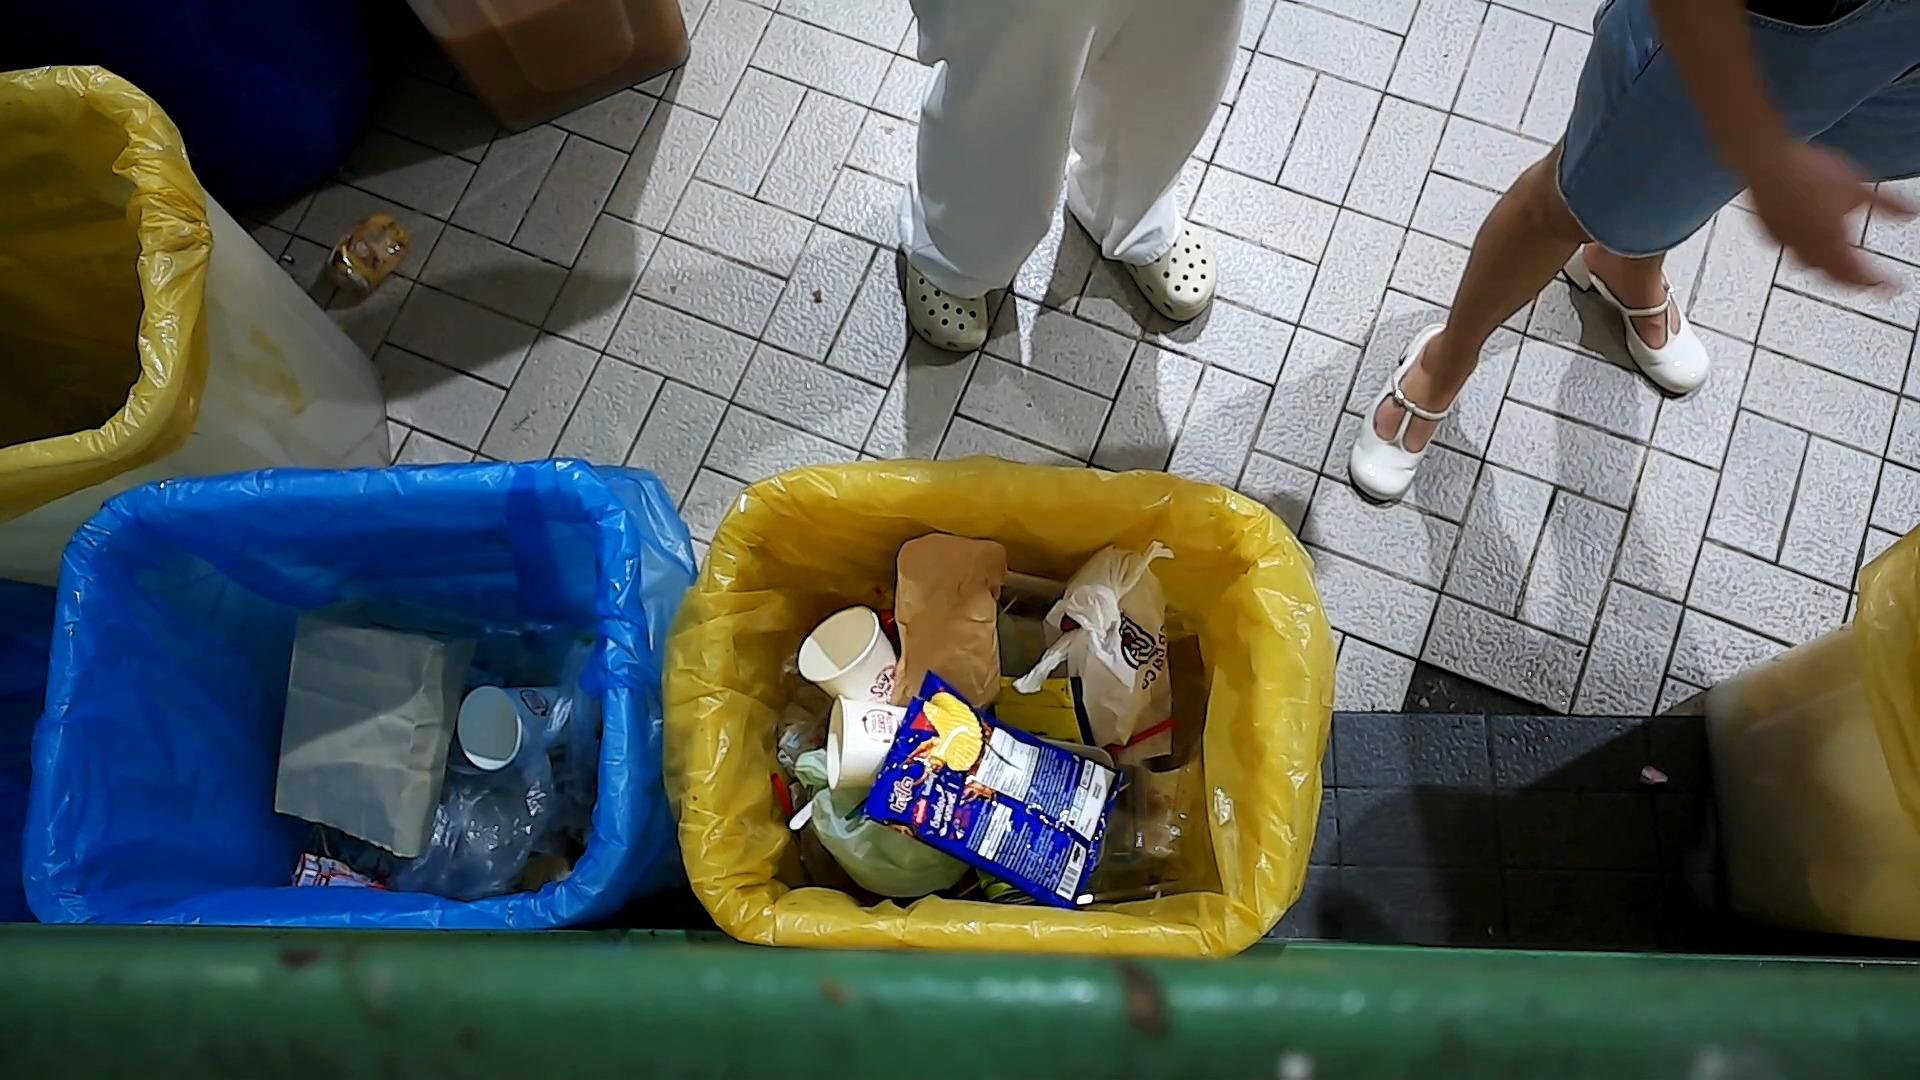filled plastic bag: (1011, 533, 1182, 764), (795, 731, 980, 902)
milk carton: (289, 843, 394, 891)
paper bag: (274, 585, 492, 858), (889, 530, 1011, 716)
plastic bag: (398, 735, 570, 905)
snack packaging: (855, 669, 1122, 911), (990, 673, 1096, 746)
straw: (1108, 715, 1182, 760)
zero waste cup: (451, 680, 575, 777), (795, 600, 899, 713), (823, 691, 905, 796)
